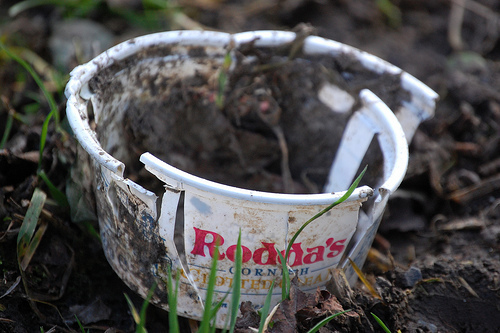litter: (62, 28, 438, 323)
